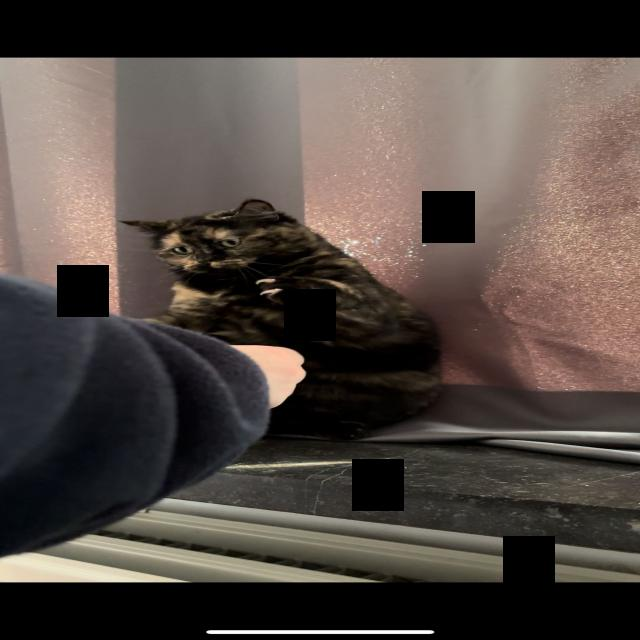authorized: (117, 197, 444, 441)
